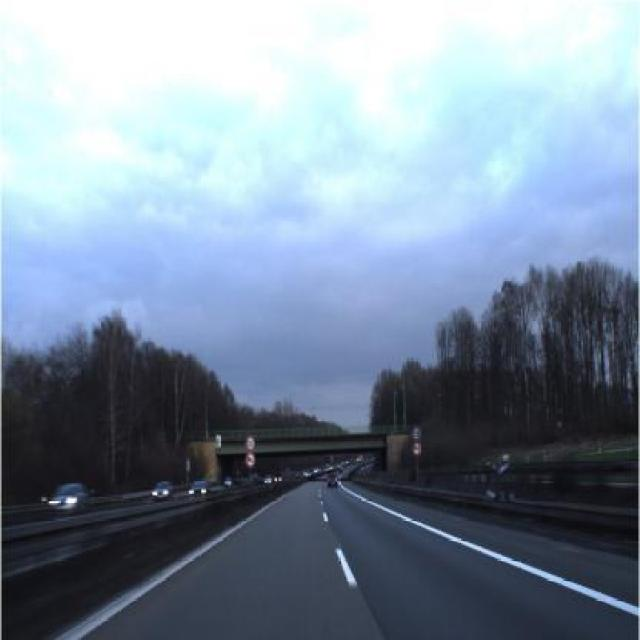traffic_sign: (410, 438, 424, 457), (244, 434, 256, 454), (410, 423, 422, 442), (244, 450, 256, 468)
